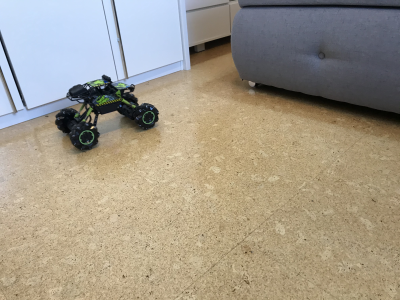remote control car: (50, 71, 161, 152)
